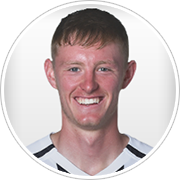smile: (72, 93, 105, 106)
